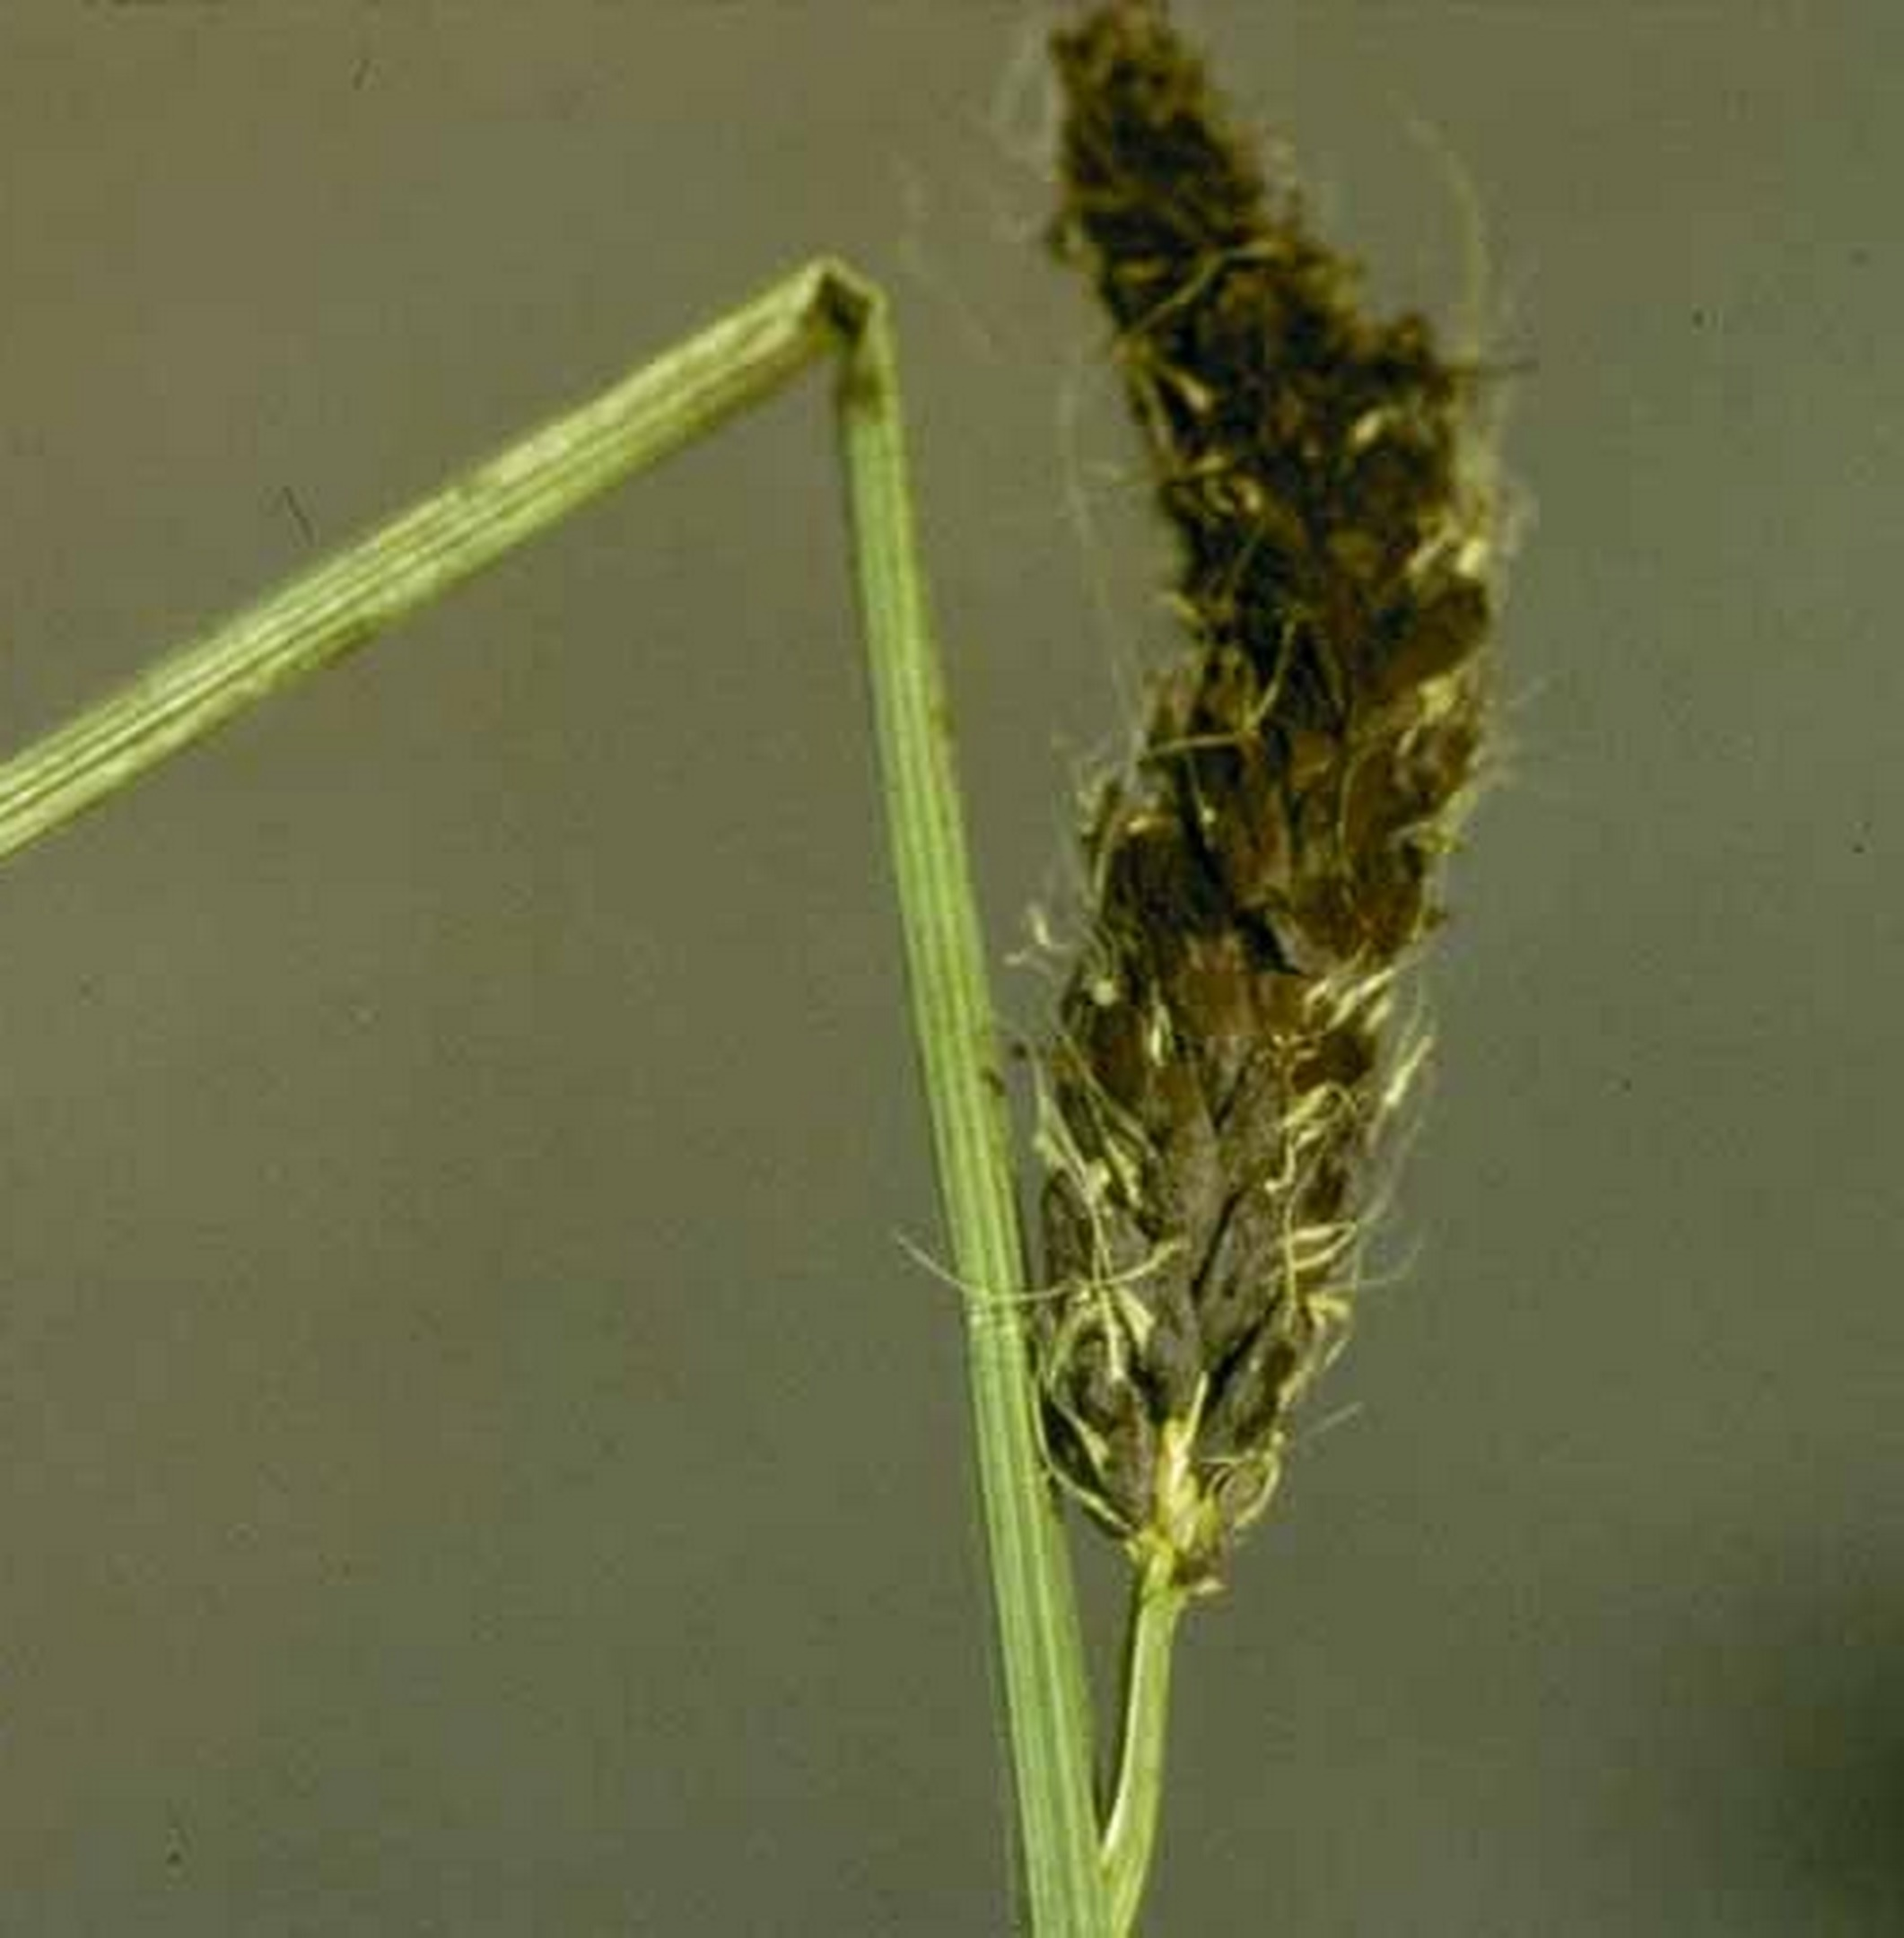Wheat Loose Smut: (971, 30, 1547, 1565)
